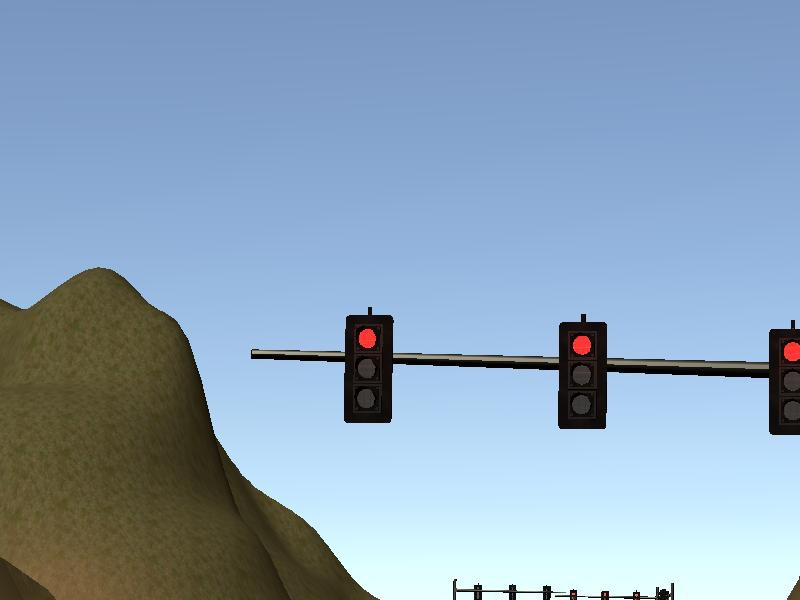red_light: (347, 318, 391, 420), (563, 324, 605, 424), (770, 332, 800, 433)
